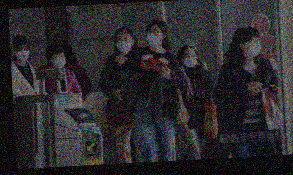with_mask: (245, 37, 263, 59), (146, 26, 163, 48), (116, 34, 133, 55), (51, 54, 68, 70), (182, 52, 198, 69), (15, 45, 30, 62)
